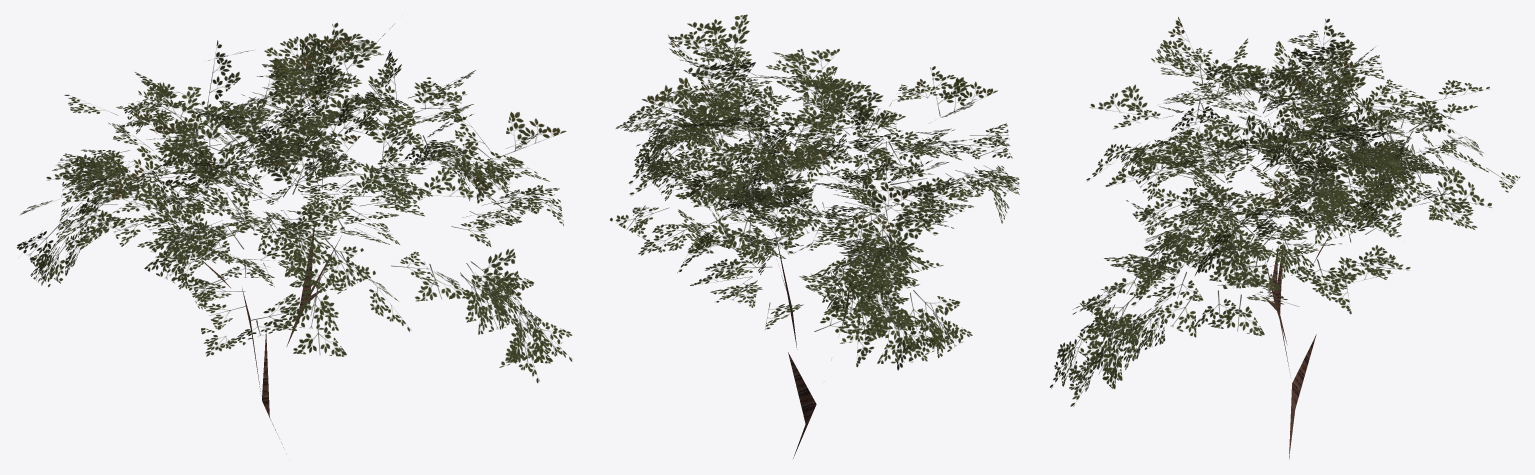
File: tree-jungle.lod1.glb
The picture shows the model from 3 angles, left to right: view 1: azimuth 30°, elevation 25°; view 2: azimuth 150°, elevation 25°; view 3: azimuth 270°, elevation 25°; orthographic projection. The views are drawn at different scales.
Parts seen in each view (by area): view 1: polySurface1_DB2X2_L02_0, polySurface1_Trank_bark1_0; view 2: polySurface1_DB2X2_L02_0, polySurface1_Trank_bark1_0; view 3: polySurface1_DB2X2_L02_0, polySurface1_Trank_bark1_0.
Boxes of the visible parts, x1,y1,x2,y2 form: polySurface1_DB2X2_L02_0: [17, 22, 572, 383]; polySurface1_Trank_bark1_0: [194, 148, 341, 447]; polySurface1_DB2X2_L02_0: [610, 14, 1019, 370]; polySurface1_Trank_bark1_0: [756, 175, 849, 458]; polySurface1_DB2X2_L02_0: [1050, 17, 1519, 406]; polySurface1_Trank_bark1_0: [1265, 185, 1333, 458].
Size of the model in its own units: 20.65 by 19.93 by 20.48.
Materials: 2 (2 with a texture image).
